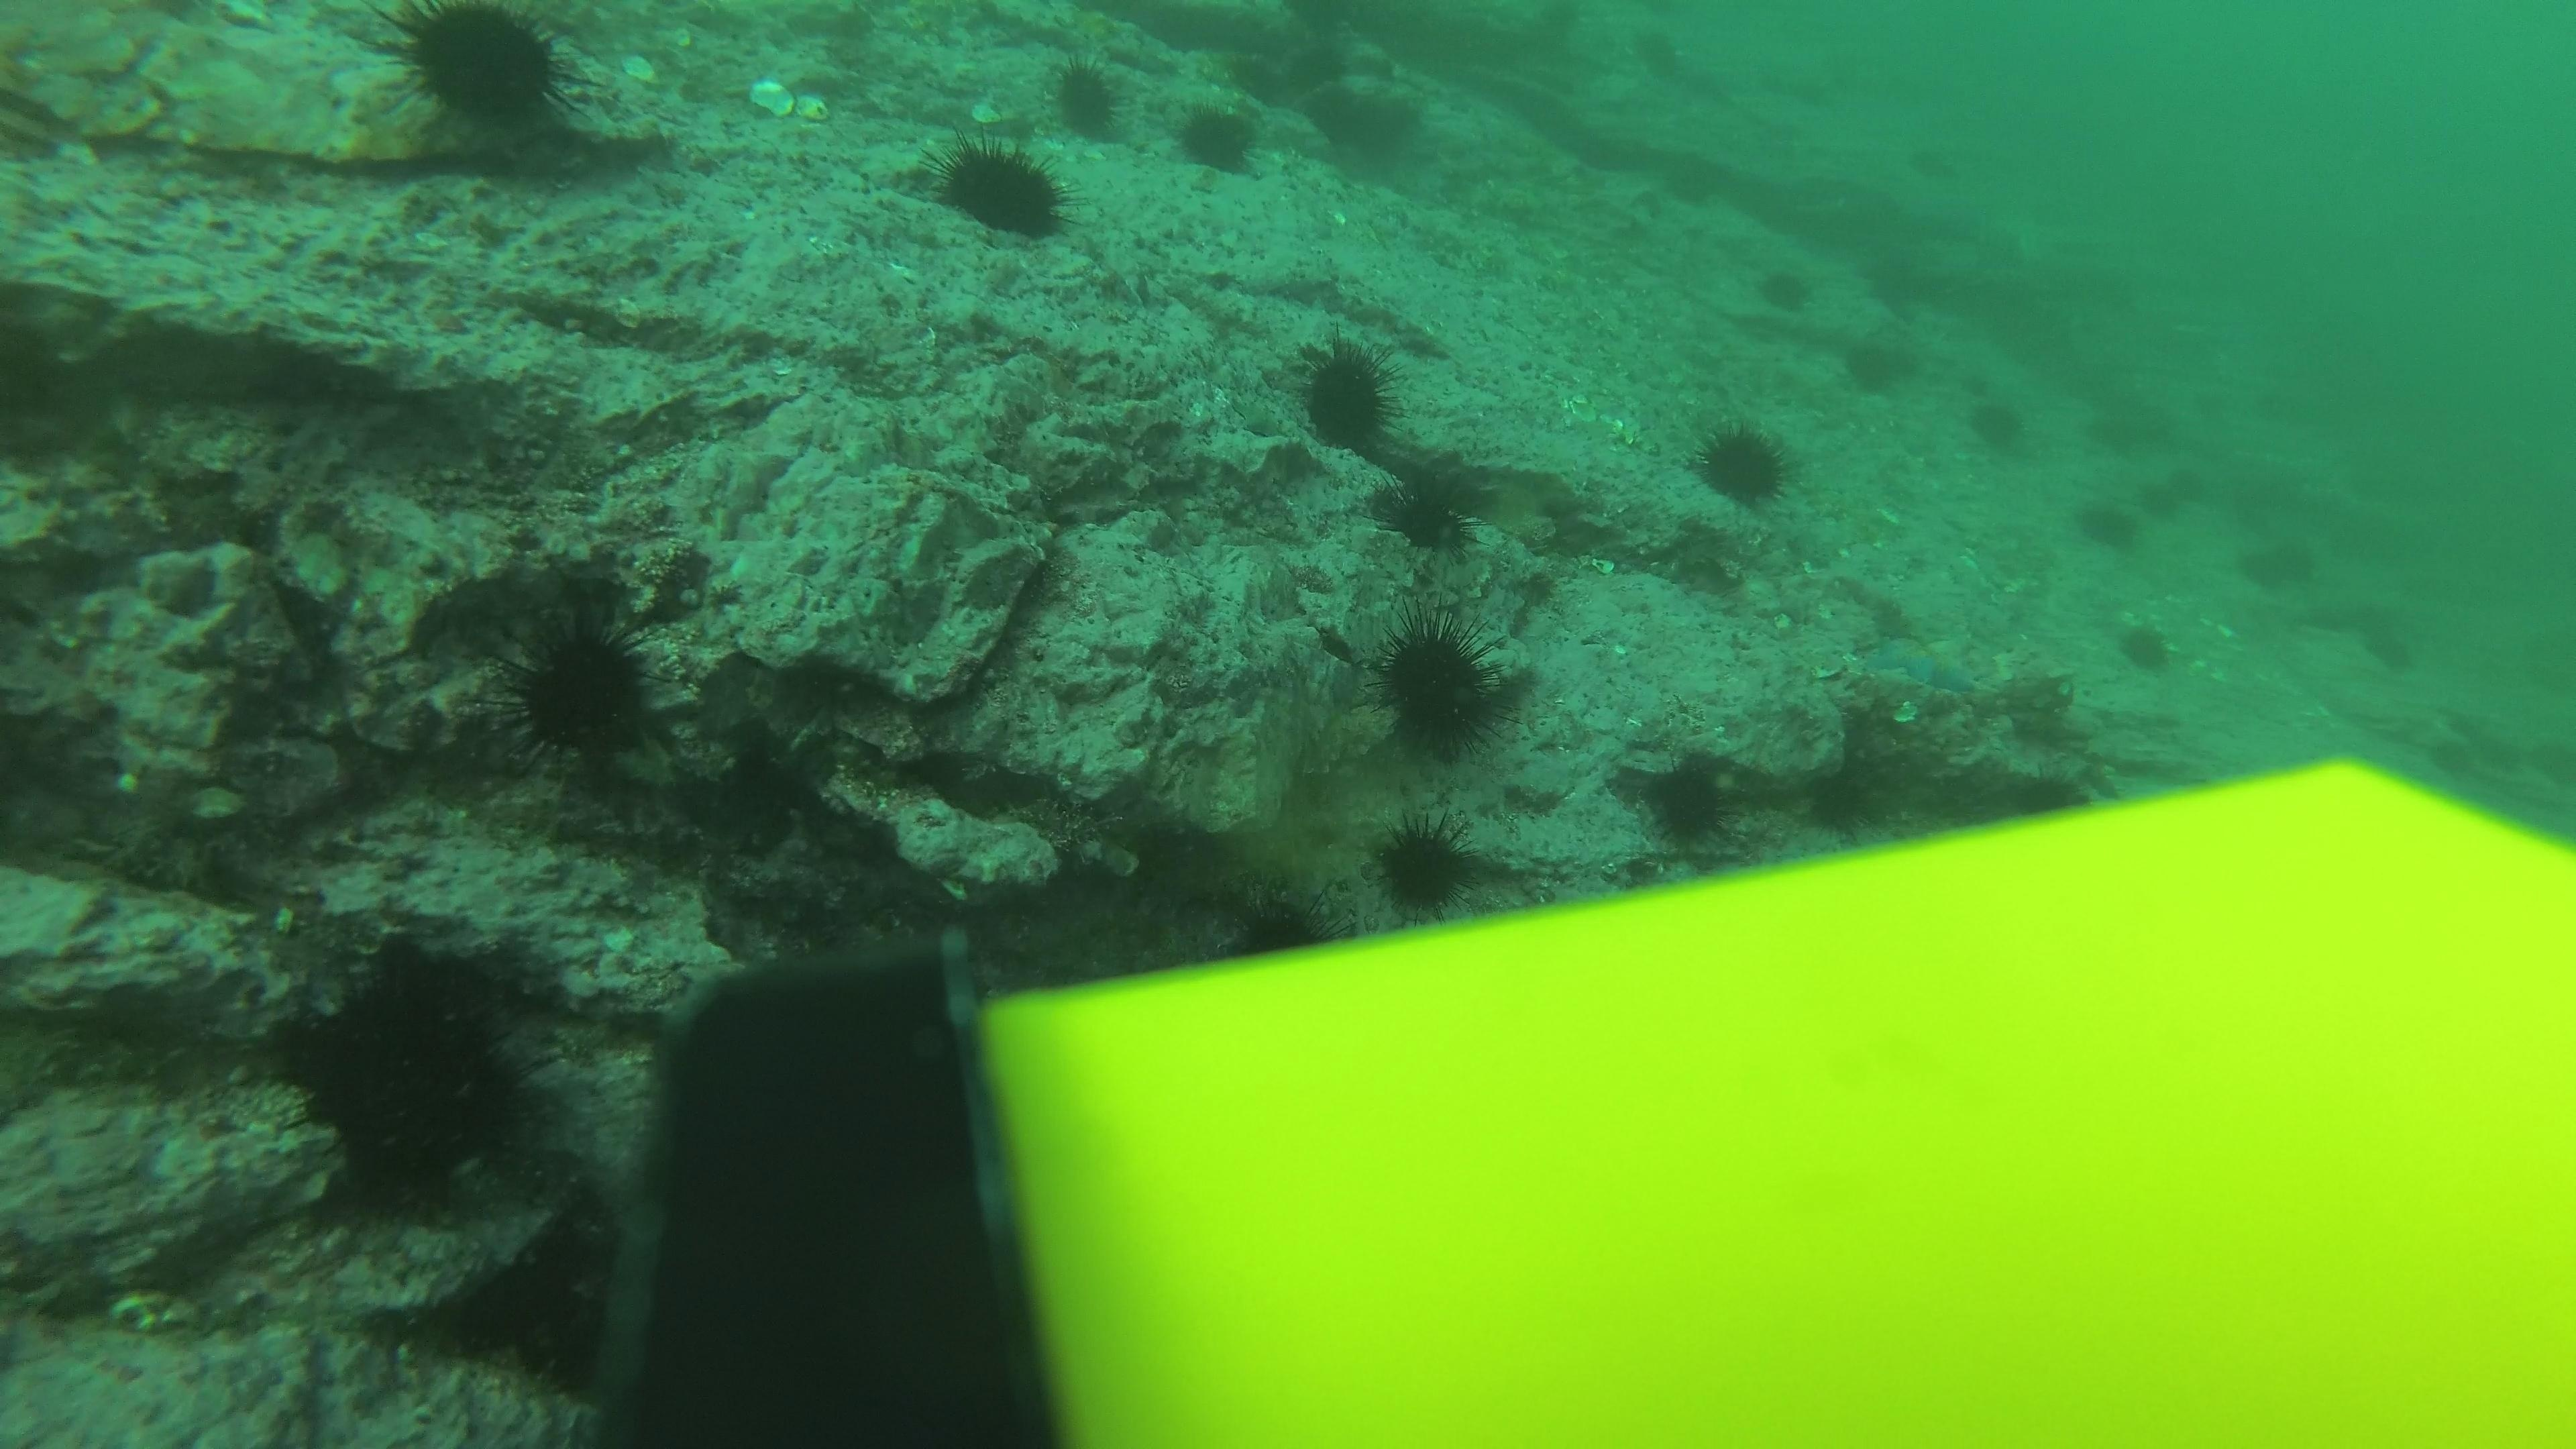echinus: (269, 962, 550, 1221), (377, 4, 586, 140), (492, 609, 665, 770), (1368, 610, 1518, 761), (927, 133, 1072, 244), (1288, 333, 1405, 458), (1300, 71, 1433, 175), (1366, 812, 1488, 918), (1624, 747, 1746, 851), (1369, 455, 1490, 557), (1690, 416, 1798, 510), (1223, 883, 1334, 961), (1042, 55, 1132, 145), (1169, 97, 1267, 180), (2235, 527, 2323, 596), (1836, 327, 1920, 398), (1960, 387, 2033, 458), (2072, 492, 2146, 556), (1752, 258, 1819, 317), (2169, 451, 2236, 510), (2114, 472, 2181, 531), (2084, 409, 2151, 467), (2181, 382, 2249, 441), (2258, 386, 2325, 444), (2358, 630, 2426, 688), (2116, 616, 2178, 678), (1897, 140, 1962, 198)
starfish: (1852, 630, 1989, 699), (1992, 667, 2088, 755)
